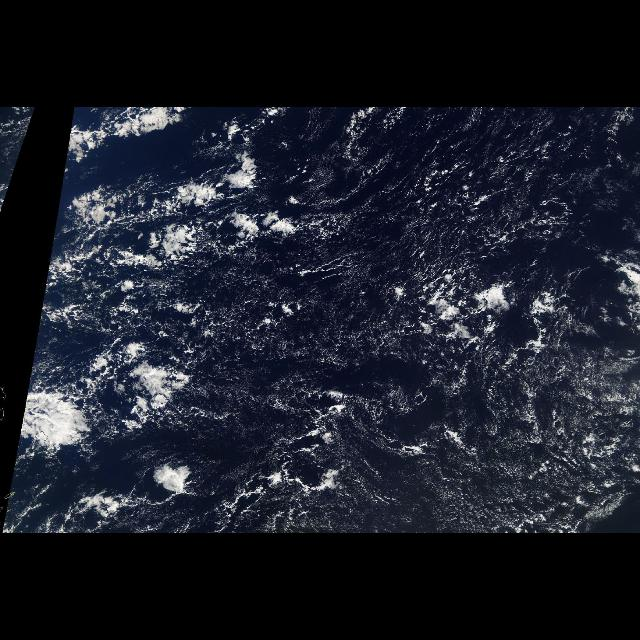Fish: (70, 166, 290, 292)
Gravel: (43, 111, 369, 533), (380, 140, 560, 412)
Sugar: (188, 265, 640, 533), (314, 107, 636, 259)
